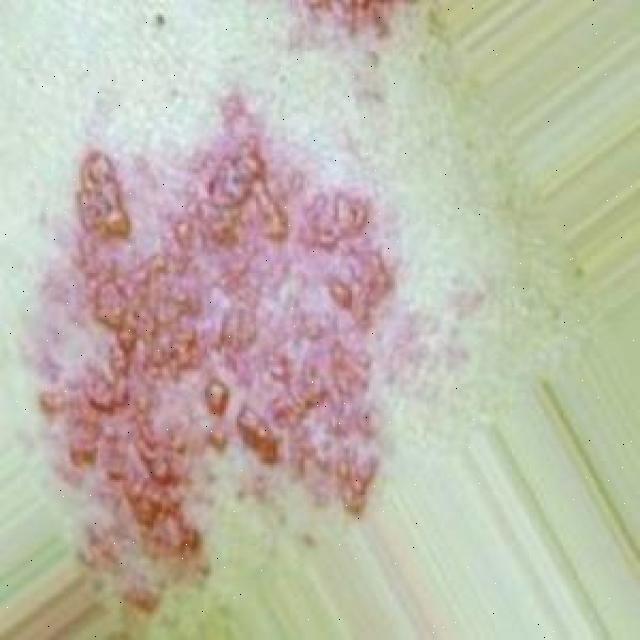Shingles: (38, 100, 400, 579), (289, 0, 397, 47)
